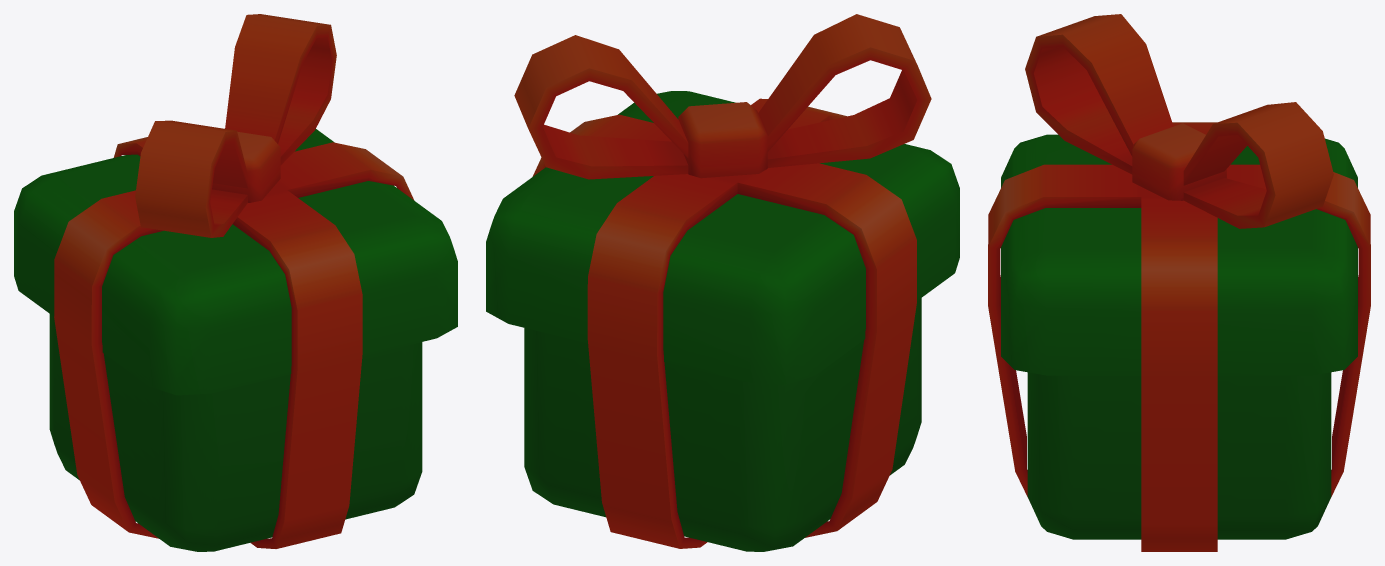
Rendered from gift_green.glb.
The picture shows the model from 3 angles, left to right: view 1: azimuth 30°, elevation 25°; view 2: azimuth 150°, elevation 25°; view 3: azimuth 270°, elevation 25°; orthographic projection. The views are drawn at different scales.
Visible parts, largest first — view 1: gift_green; view 2: gift_green; view 3: gift_green.
Boxes of the visible parts, x1=… form: gift_green: x1=14, y1=14, x2=457, y2=551; gift_green: x1=486, y1=14, x2=959, y2=551; gift_green: x1=988, y1=14, x2=1370, y2=551.
Bounding box in the file's own units: 0.4021 × 0.506 × 0.4024.
1 material, 1 textured.
